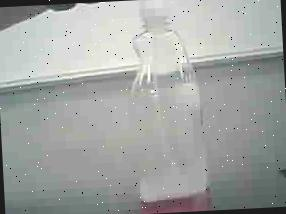hazard: (121, 0, 216, 214)
